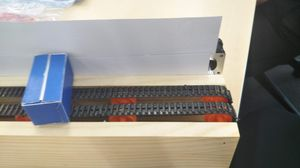box3: (19, 50, 74, 125)
